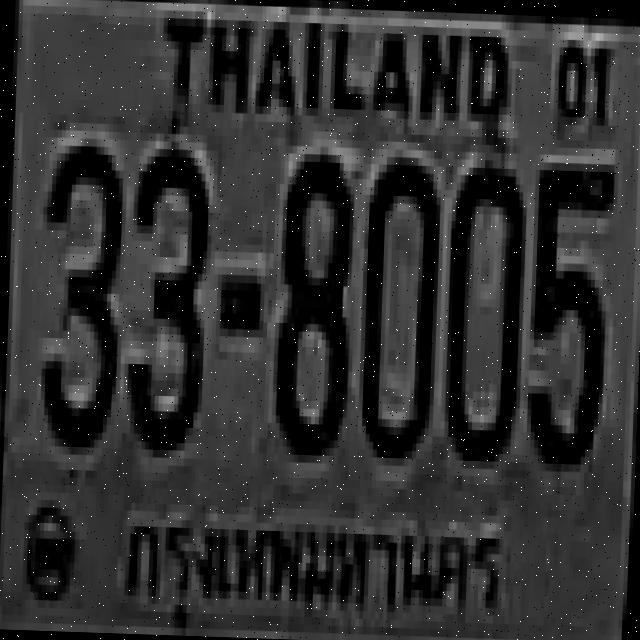0: (439, 154, 524, 458), (357, 152, 438, 454)
3: (124, 140, 208, 450), (37, 137, 122, 440)
5: (524, 153, 612, 464)
8: (270, 145, 352, 448)
Bangkok: (114, 488, 505, 628)
